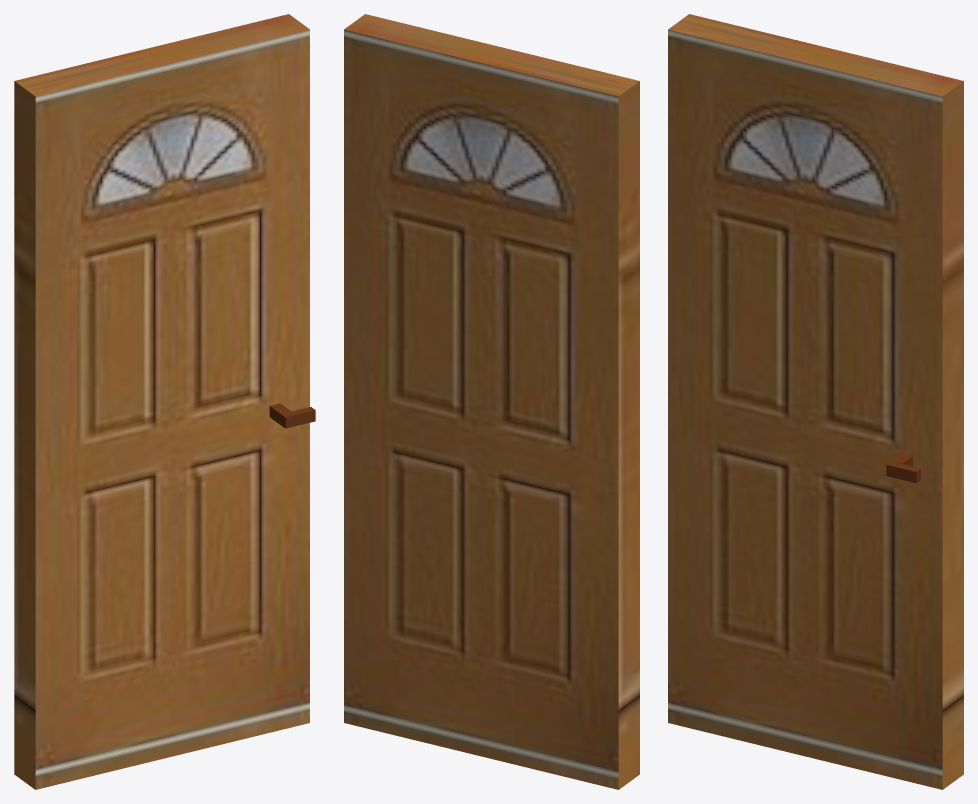
Rendered from DoorSingleA.fbx.
The picture shows the model from 3 angles, left to right: view 1: azimuth 30°, elevation 25°; view 2: azimuth 150°, elevation 25°; view 3: azimuth 330°, elevation 25°; orthographic projection.
Visible parts, largest first — view 1: Door_2m75, knobb; view 2: Door_2m75; view 3: Door_2m75, knobb.
Part boxes in pixels (box(x1,y1,x2,y2)): Door_2m75: box(14, 14, 309, 789); knobb: box(269, 403, 315, 428); Door_2m75: box(344, 14, 639, 789); Door_2m75: box(668, 14, 963, 789); knobb: box(886, 453, 920, 483).
Size of the model in its own units: 84.95 by 205 by 19.85.
2 materials, 1 textured.
